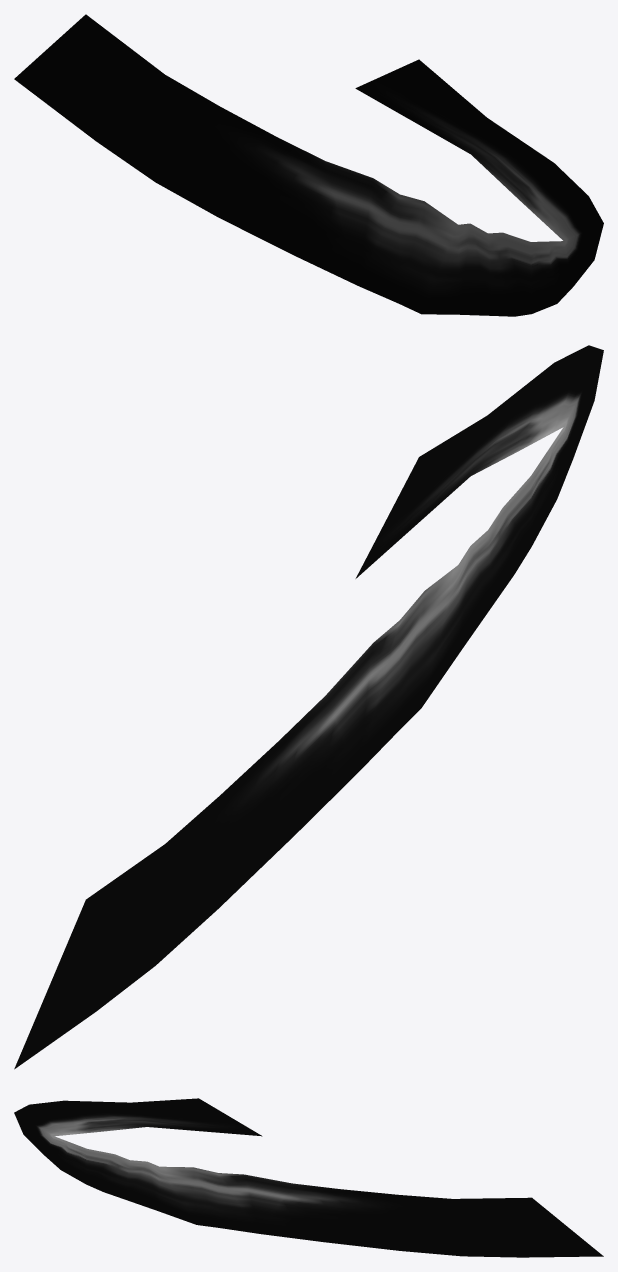
File: xuelangzhijian002.fbx
The picture shows the model from 3 angles, top to bottom: view 1: azimuth 30°, elevation 25°; view 2: azimuth 150°, elevation 25°; view 3: azimuth 270°, elevation 25°; orthographic projection. The views are drawn at different scales.
Visible parts, largest first — view 1: xuelangzhijian002; view 2: xuelangzhijian002; view 3: xuelangzhijian002.
Boxes of the visible parts, <box> form: xuelangzhijian002: <box>14,14,603,316</box>; xuelangzhijian002: <box>14,345,603,1069</box>; xuelangzhijian002: <box>14,1098,603,1257</box>.
Bounding box in the file's own units: 0.00432 × 150 × 505.
